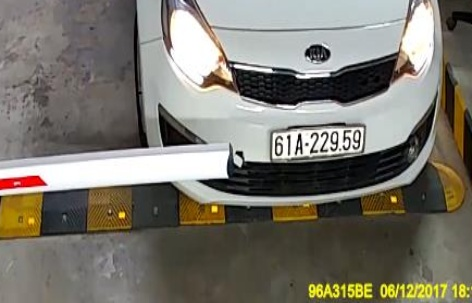plate: (268, 123, 364, 168)
